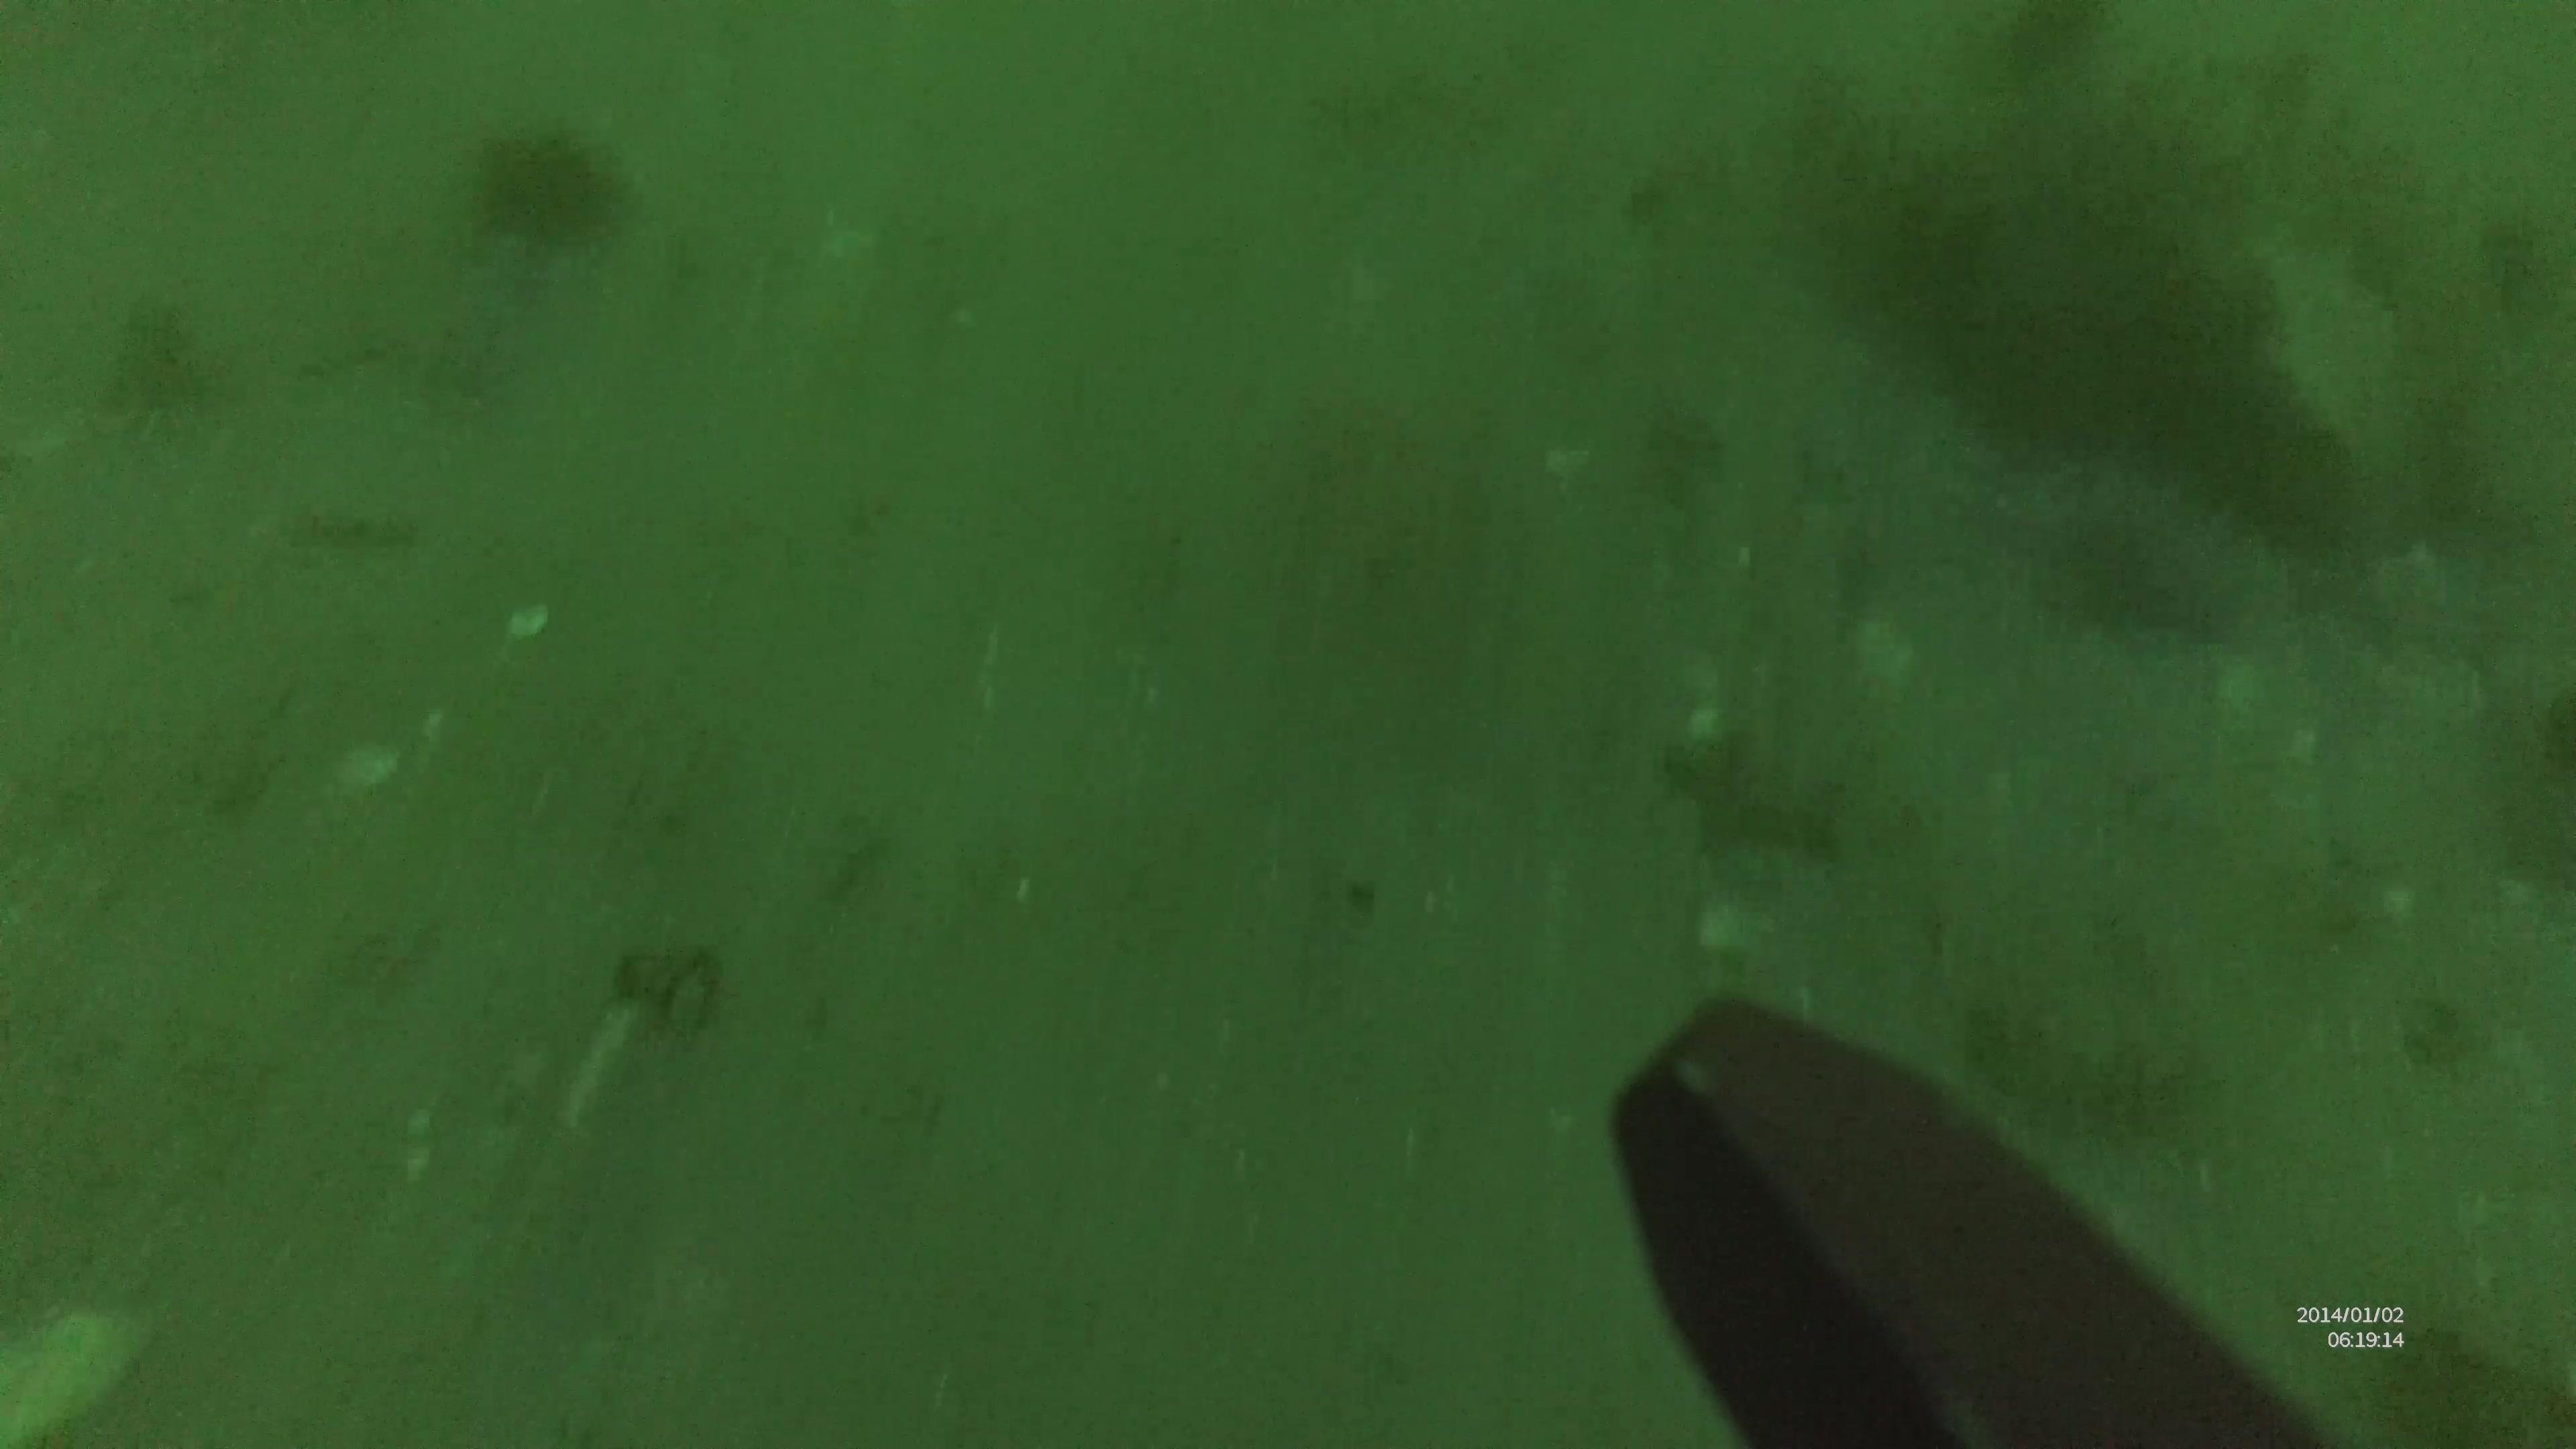scallop: (0, 1297, 175, 1447)
